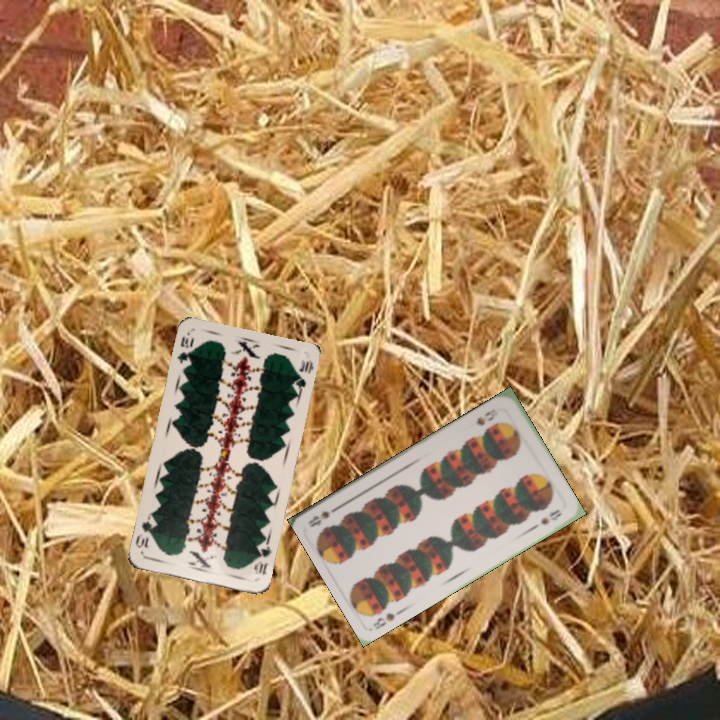G10: (250, 540, 274, 578), (173, 332, 197, 366)
S8: (369, 609, 398, 632), (472, 405, 497, 428)
